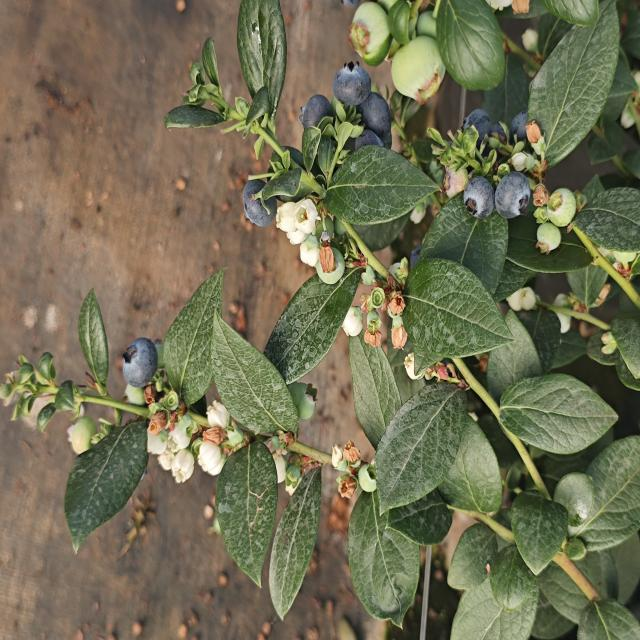ripe: (465, 106, 510, 158), (119, 335, 160, 392), (330, 58, 373, 110), (493, 169, 532, 223), (302, 88, 341, 142), (240, 176, 278, 231), (267, 141, 312, 187), (506, 110, 548, 154), (460, 174, 496, 223), (367, 95, 395, 137)
